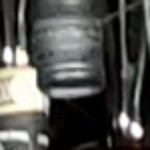bottle: (19, 26, 124, 126)
